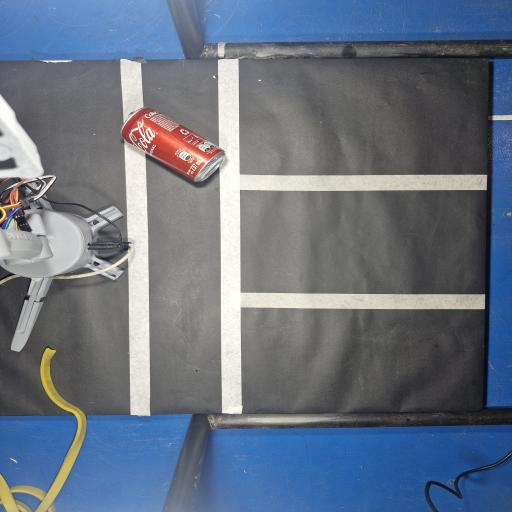lata: (120, 108, 224, 182)
